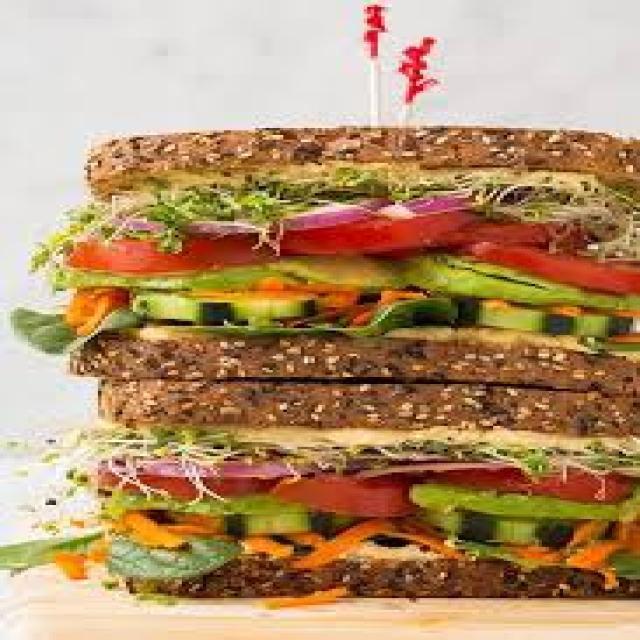Sandwich: (111, 141, 640, 640)
